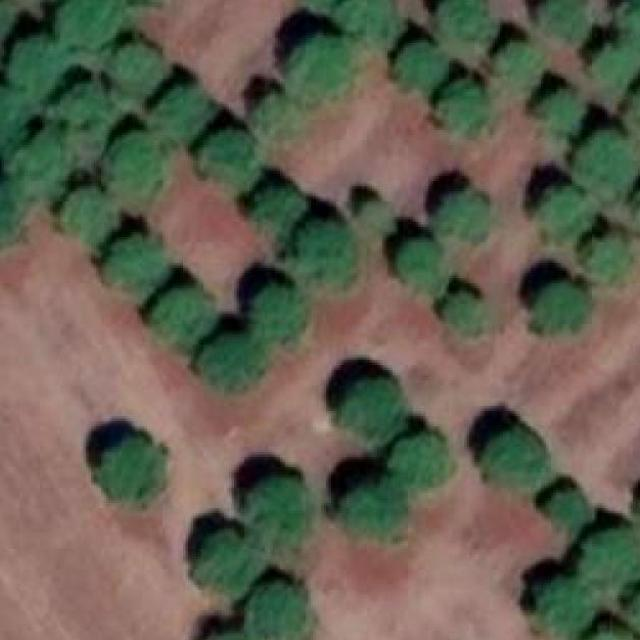Tree: (249, 481, 311, 555), (101, 433, 166, 503), (592, 0, 640, 89), (533, 579, 603, 640), (103, 132, 163, 201), (577, 130, 638, 196), (12, 135, 74, 199), (247, 582, 311, 640), (485, 430, 551, 486), (297, 220, 357, 281), (347, 482, 408, 542), (343, 377, 403, 437), (288, 38, 350, 94), (581, 528, 640, 586), (60, 184, 116, 245), (195, 532, 255, 588), (152, 288, 214, 342), (252, 186, 306, 247), (9, 38, 64, 97), (200, 334, 260, 388), (101, 237, 163, 288), (389, 434, 449, 486), (202, 130, 258, 184), (527, 284, 587, 334), (254, 286, 306, 341), (150, 89, 212, 135), (58, 0, 120, 46), (336, 0, 396, 46), (438, 0, 489, 48), (434, 191, 489, 235), (585, 230, 631, 281), (541, 186, 587, 237), (392, 43, 442, 89), (56, 84, 111, 123), (438, 82, 484, 128), (111, 46, 162, 87), (539, 484, 590, 524), (402, 237, 442, 286), (541, 0, 589, 40), (536, 89, 582, 130), (444, 288, 479, 332), (0, 87, 25, 148), (0, 188, 25, 248), (495, 43, 539, 77), (258, 97, 302, 131), (365, 199, 396, 230), (581, 627, 640, 640), (297, 0, 342, 16), (0, 0, 17, 32), (630, 81, 640, 135), (198, 633, 265, 640), (633, 583, 640, 634), (635, 493, 640, 537)
